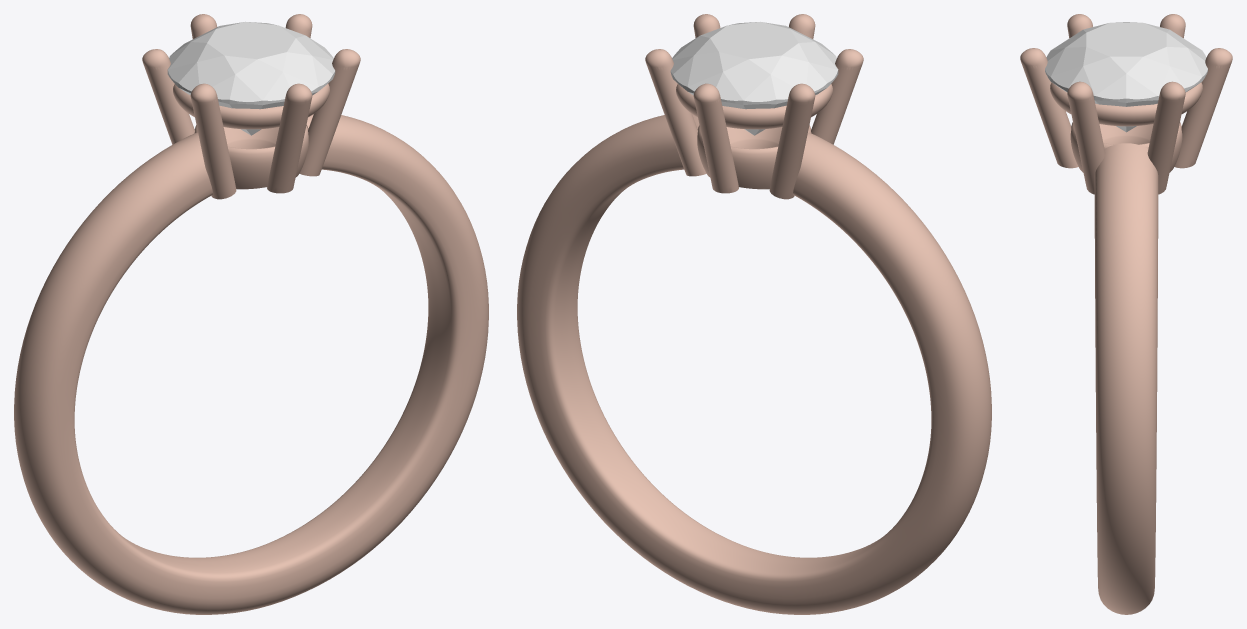
File: diamond-round-rosegold-6prong-straightband-nosidestones.glb
3 renders of one model, left to right at view 1: azimuth 30°, elevation 25°; view 2: azimuth 150°, elevation 25°; view 3: azimuth 270°, elevation 25°, orthographic. The views are drawn at different scales.
Visible parts, largest first — view 1: metal, stone; view 2: metal, stone; view 3: metal, stone.
Boxes of the visible parts, <box> form: metal: <box>14,14,488,614</box>; stone: <box>167,21,335,135</box>; metal: <box>517,14,991,614</box>; stone: <box>670,21,838,135</box>; metal: <box>1020,14,1232,614</box>; stone: <box>1045,22,1207,132</box>.
Size of the model in its own units: 20.5 by 23.81 by 8.33.
